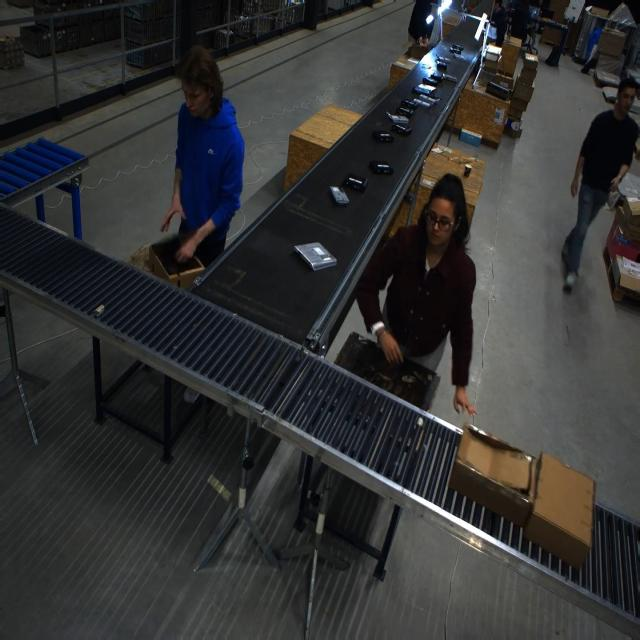box: (449, 428, 533, 527), (524, 453, 595, 570), (148, 239, 207, 290), (596, 28, 626, 56), (510, 75, 535, 105), (618, 193, 640, 226), (486, 66, 515, 89), (517, 54, 538, 85), (406, 41, 430, 63)
product: (293, 242, 334, 270), (342, 173, 367, 193), (328, 186, 350, 206), (369, 160, 393, 176), (372, 130, 394, 143), (386, 111, 409, 123), (414, 96, 437, 108), (390, 123, 411, 136), (412, 84, 434, 96), (400, 98, 418, 110), (420, 92, 440, 102), (438, 72, 457, 82), (421, 77, 438, 87), (397, 107, 413, 117), (449, 44, 463, 55), (452, 53, 468, 62), (430, 72, 444, 81), (436, 54, 450, 62), (435, 61, 447, 70)
